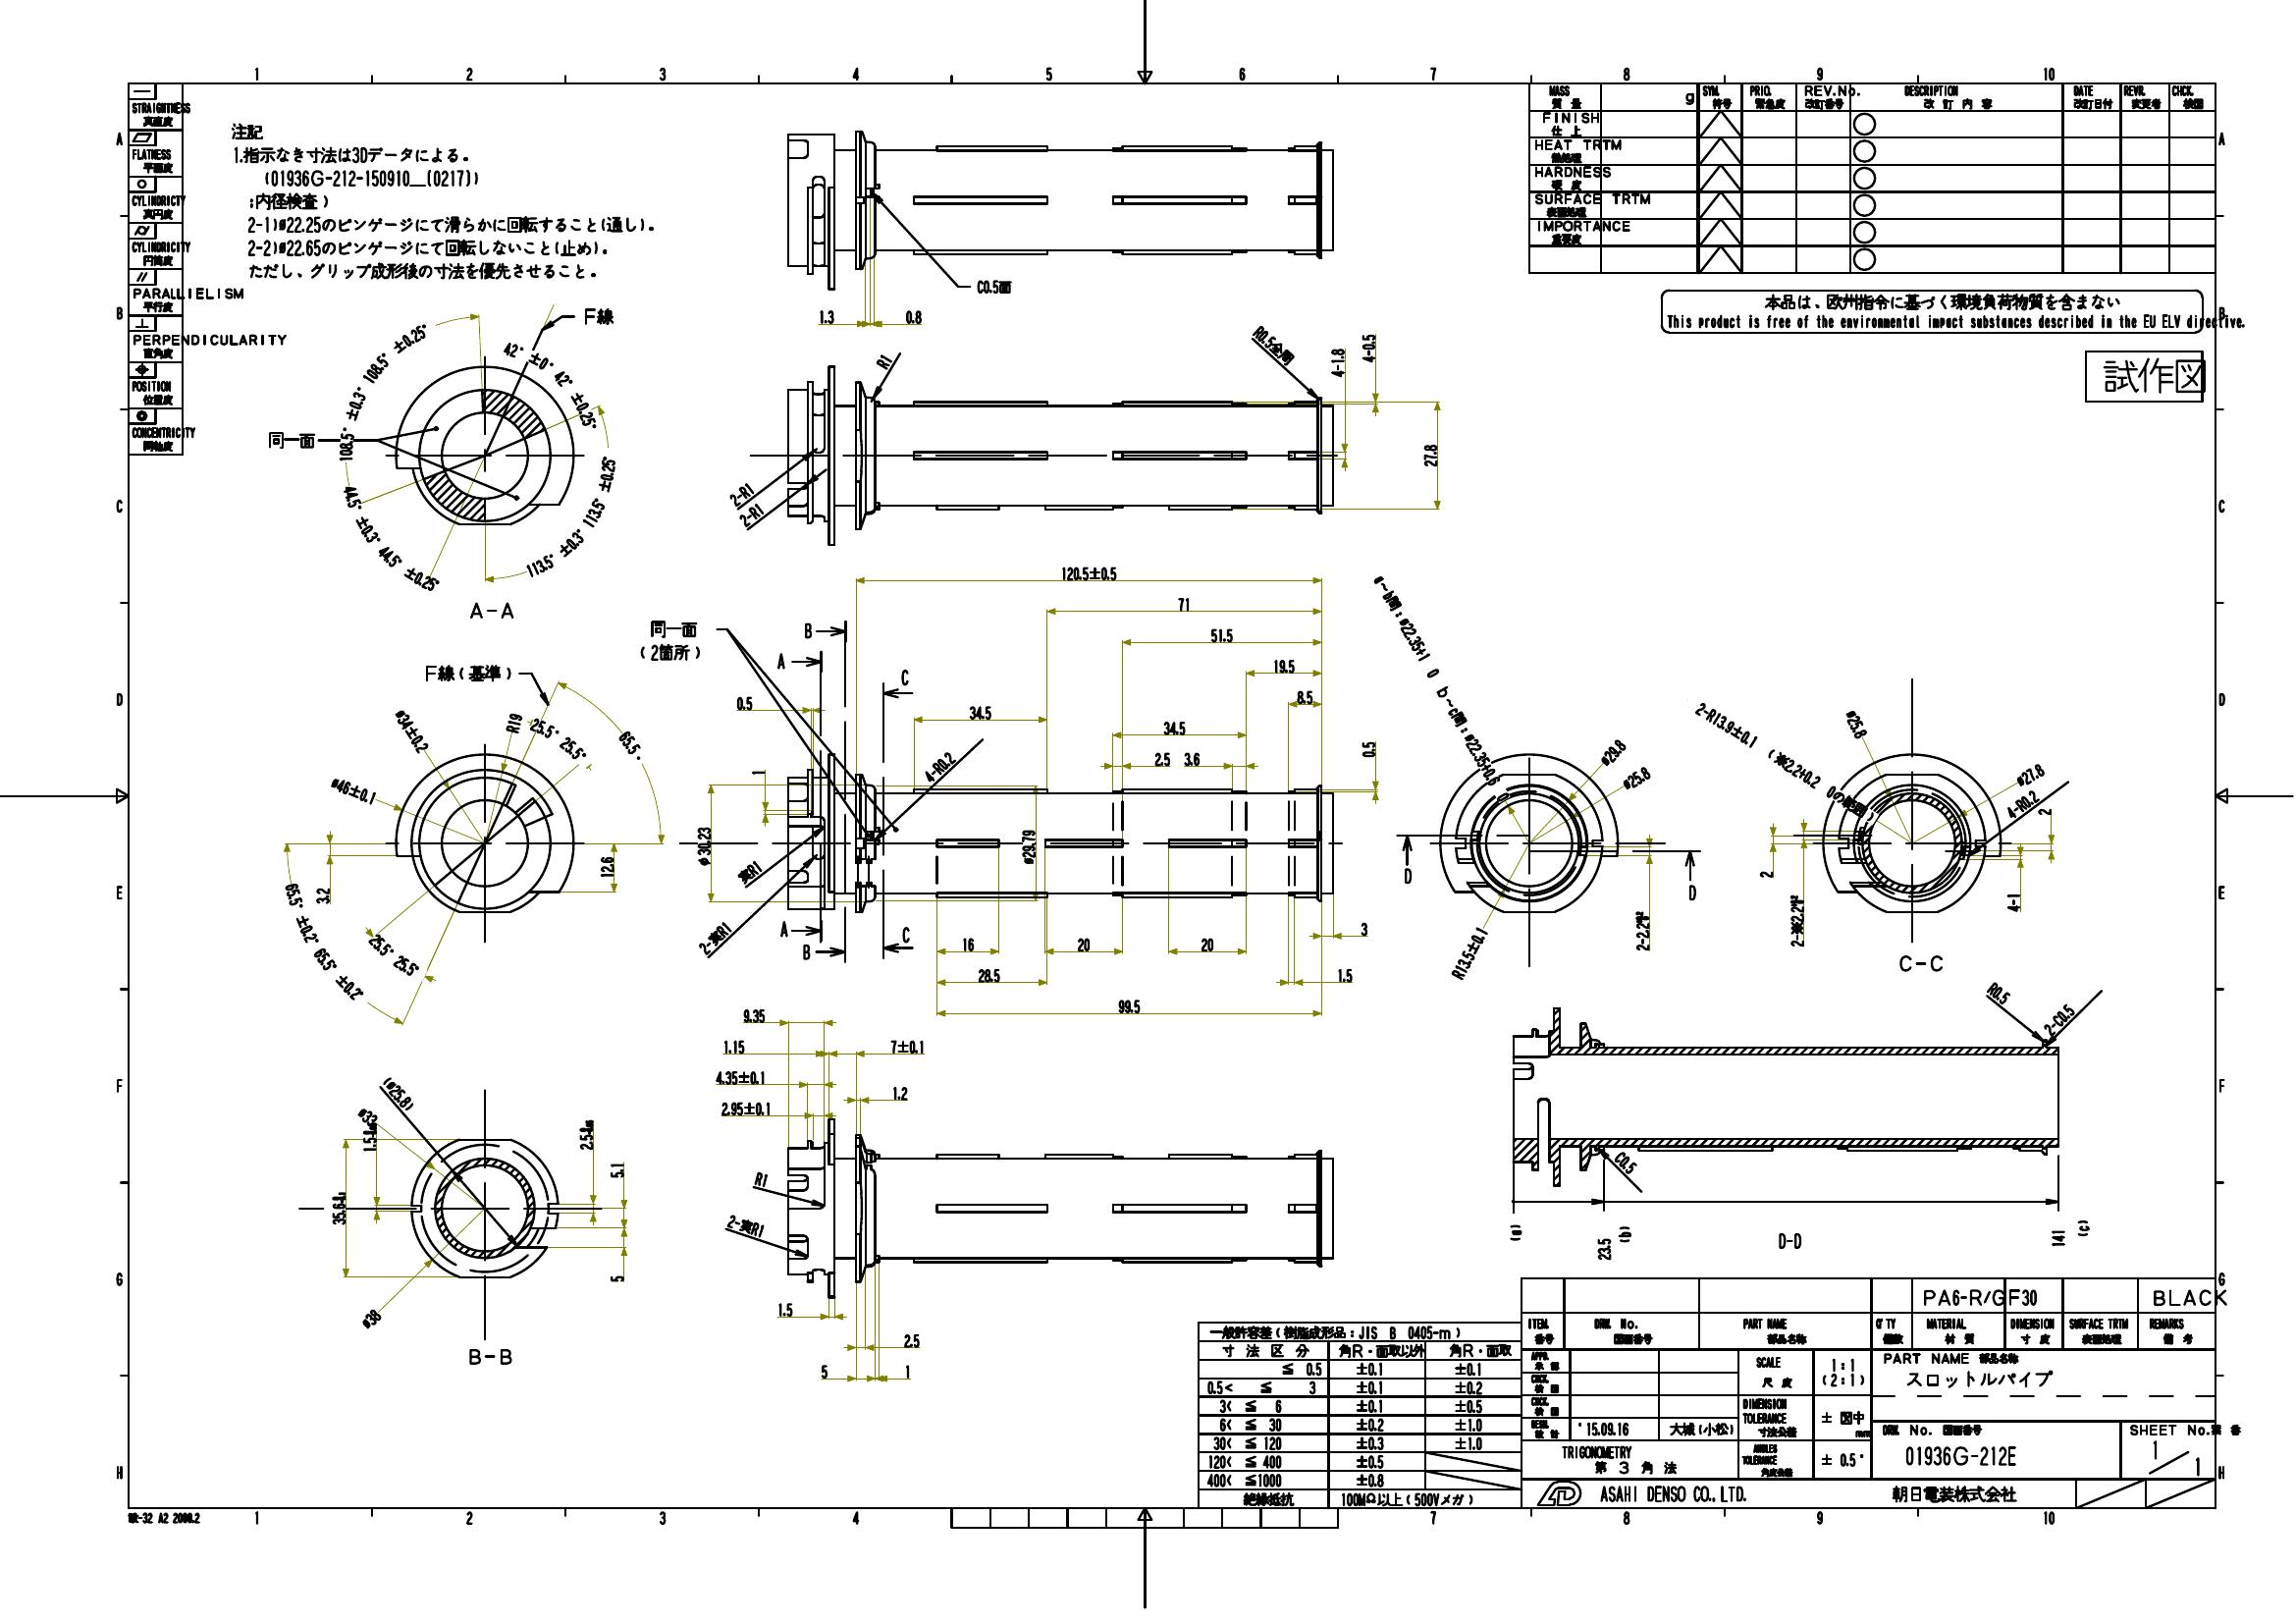anntotation_text: (228, 120, 657, 279), (1662, 288, 2203, 332), (2083, 350, 2203, 402), (636, 617, 704, 663), (422, 661, 513, 684), (1894, 953, 1952, 975), (462, 1345, 516, 1367), (126, 1512, 206, 1526), (467, 599, 520, 619), (580, 301, 620, 325), (265, 429, 314, 448), (1426, 703, 1479, 717), (975, 276, 1014, 294), (1365, 589, 1412, 603), (1774, 1230, 1802, 1250), (894, 666, 915, 687), (773, 917, 792, 937), (1270, 344, 1293, 360), (1507, 1223, 1523, 1244), (1616, 1225, 1632, 1246), (898, 924, 913, 944), (2075, 1218, 2090, 1237), (1402, 865, 1416, 886), (1683, 882, 1699, 900), (801, 622, 817, 640), (775, 650, 789, 670), (798, 944, 812, 960)
dimension_text: (1678, 752, 1890, 768), (385, 313, 408, 395), (341, 385, 364, 462), (548, 515, 569, 589), (541, 390, 611, 411), (327, 504, 395, 526), (374, 559, 443, 580), (592, 453, 610, 529), (292, 881, 311, 946), (330, 940, 348, 1007), (523, 729, 590, 747), (1409, 615, 1426, 680), (1462, 924, 1479, 981), (364, 947, 423, 963), (1479, 729, 1491, 805), (1788, 893, 1804, 949), (1058, 566, 1119, 580), (501, 348, 555, 364), (713, 1069, 768, 1084), (717, 1100, 771, 1116), (697, 824, 713, 870), (1634, 907, 1650, 951), (404, 707, 418, 756), (327, 782, 376, 796), (1017, 826, 1035, 865), (620, 729, 639, 765), (390, 1072, 406, 1114), (576, 1116, 594, 1153), (726, 1216, 766, 1232), (696, 928, 733, 944), (921, 759, 961, 773), (330, 1190, 346, 1225), (2003, 796, 2041, 810), (1207, 626, 1237, 643), (1846, 708, 1864, 738), (2041, 1012, 2078, 1026), (887, 1039, 924, 1053), (964, 705, 996, 721), (738, 1007, 769, 1023), (1251, 325, 1275, 344), (1611, 1155, 1641, 1171), (736, 506, 766, 522), (1361, 330, 1375, 364), (1332, 346, 1346, 380), (718, 1037, 747, 1053), (2047, 1227, 2066, 1250), (1116, 995, 1140, 1012), (504, 708, 522, 733), (1593, 1237, 1611, 1262), (727, 487, 757, 501), (364, 1123, 378, 1153), (975, 967, 1001, 982), (1161, 719, 1188, 735), (1270, 657, 1296, 673), (597, 852, 613, 879), (1989, 982, 2010, 1002), (1599, 743, 1627, 758), (1623, 772, 1651, 786), (2017, 768, 2043, 782), (1423, 441, 1437, 468), (360, 1311, 381, 1329), (889, 1083, 910, 1100), (750, 1169, 771, 1186), (733, 694, 755, 710), (1149, 750, 1172, 766), (817, 308, 840, 323), (736, 865, 764, 877), (1172, 596, 1196, 610), (1333, 967, 1354, 982), (1182, 750, 1202, 766), (905, 308, 924, 323), (316, 884, 330, 905), (357, 1109, 378, 1123), (2006, 891, 2018, 914), (957, 935, 975, 951), (610, 1160, 625, 1178), (903, 1332, 921, 1348), (778, 1302, 796, 1318), (1073, 937, 1091, 951), (1196, 939, 1216, 951), (1295, 691, 1314, 703), (1360, 742, 1374, 758), (1758, 866, 1774, 881), (608, 1272, 625, 1285), (817, 1364, 831, 1378), (899, 1366, 913, 1380), (748, 765, 764, 777), (2036, 807, 2052, 817), (1356, 923, 1368, 935)
object: (787, 364, 1332, 547), (787, 1118, 1333, 1297), (1514, 1007, 2059, 1186), (787, 750, 1333, 914), (787, 130, 1333, 292), (395, 752, 574, 914), (1439, 752, 1618, 912), (395, 366, 574, 526), (1822, 754, 2001, 912), (411, 1137, 560, 1276)
title_block: (1200, 1278, 2215, 1510), (1530, 81, 2215, 272), (126, 81, 183, 455)
